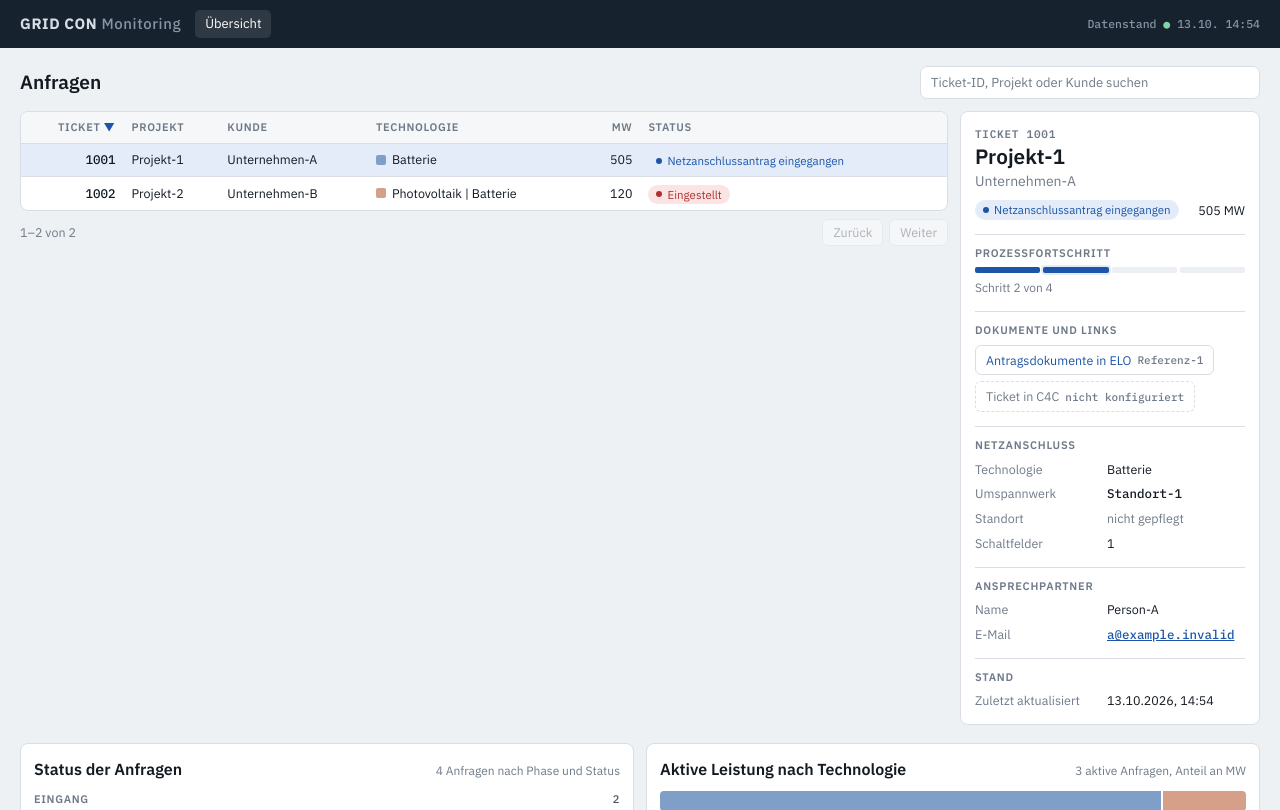
Test: App › selects another request on click
Click the cell "Projekt-2" at [171, 193], box [124,177,219,210]
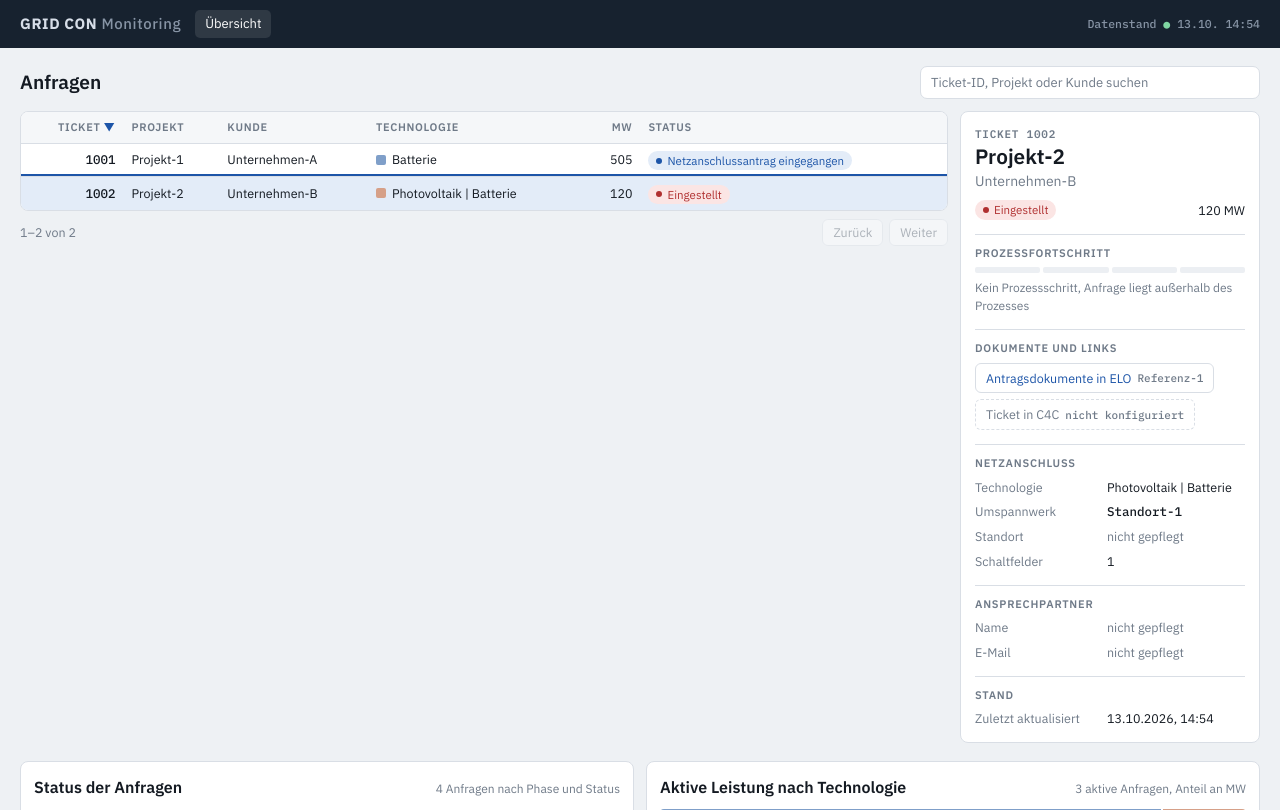
Expected: the text "Kein Prozessschritt, Anfrage liegt außerhalb des Prozesses" is shown, [975,279,1245,315]
